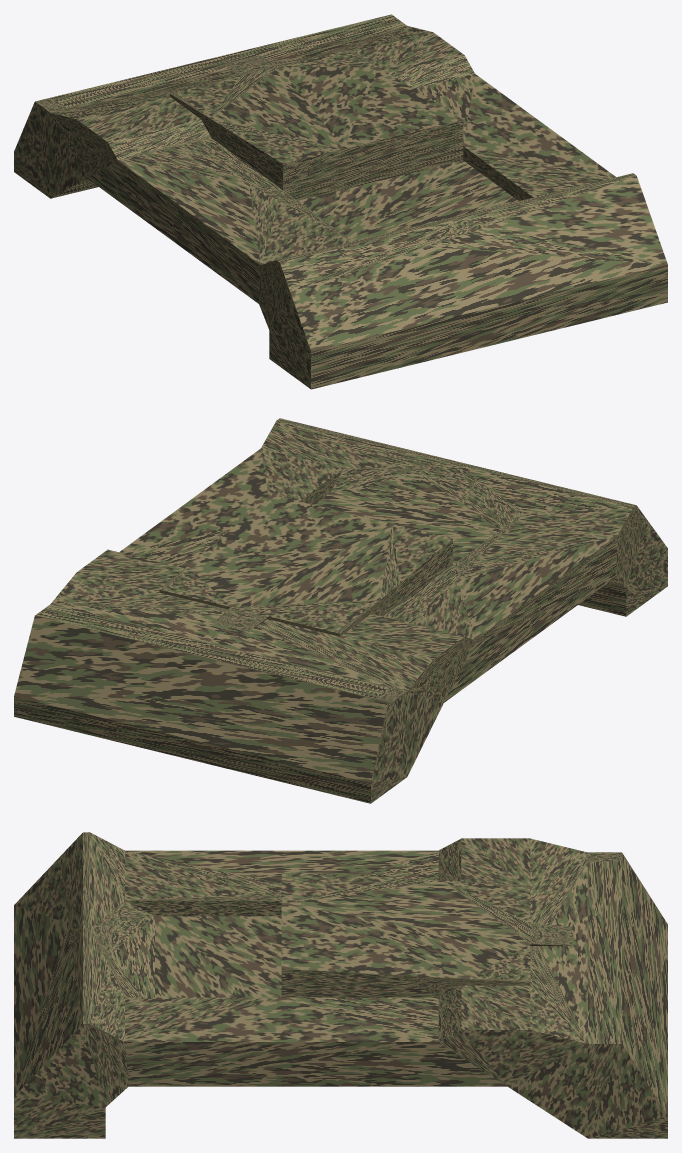
Rendered from body.obj.
3 views of the same model, one above another, from view 1: azimuth 30°, elevation 25°; view 2: azimuth 150°, elevation 25°; view 3: azimuth 270°, elevation 25° (orthographic). The views are drawn at different scales.
Parts seen in each view (by area): view 1: Untitled; view 2: Untitled; view 3: Untitled.
Part boxes in pixels (x1,y1,x2,y2): Untitled: (14,14,667,389); Untitled: (14,418,667,803); Untitled: (14,832,667,1138).
Size of the model in its own units: 39.52 by 12.05 by 57.
